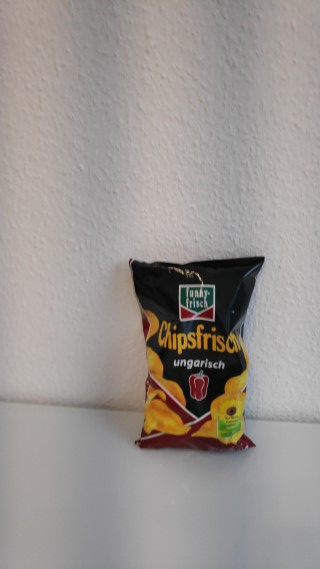chipsfrisch: (128, 255, 265, 452)
